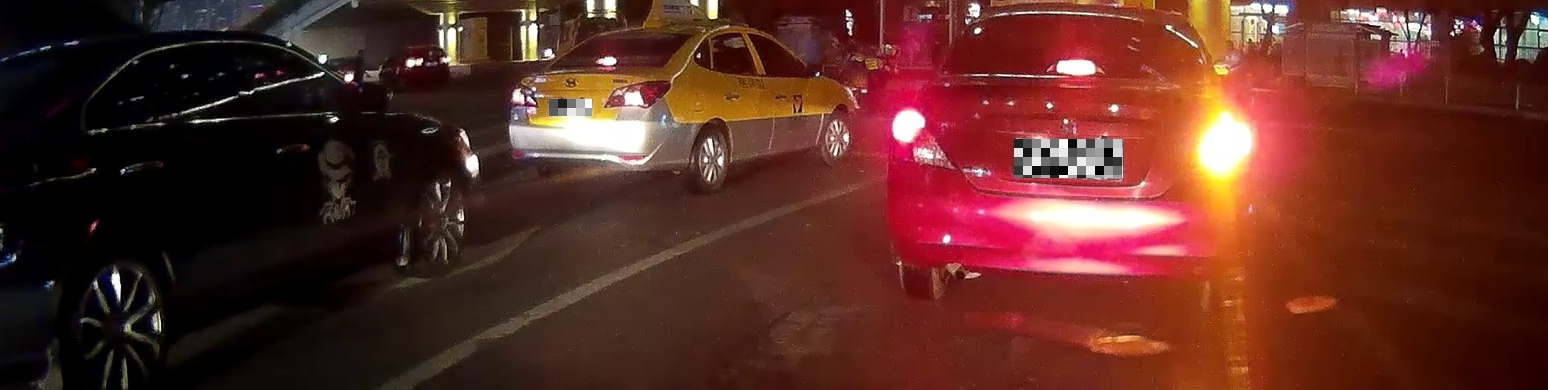L_light: (892, 107, 952, 169), (510, 83, 538, 106)
R_light: (1177, 119, 1234, 180), (603, 80, 671, 108)
T_light: (1054, 58, 1097, 77), (596, 56, 616, 66)
night-brake: (509, 22, 696, 193)
night-right: (887, 3, 1238, 311)
plate_1: (549, 99, 592, 116)
plate_2: (1014, 139, 1123, 178)
